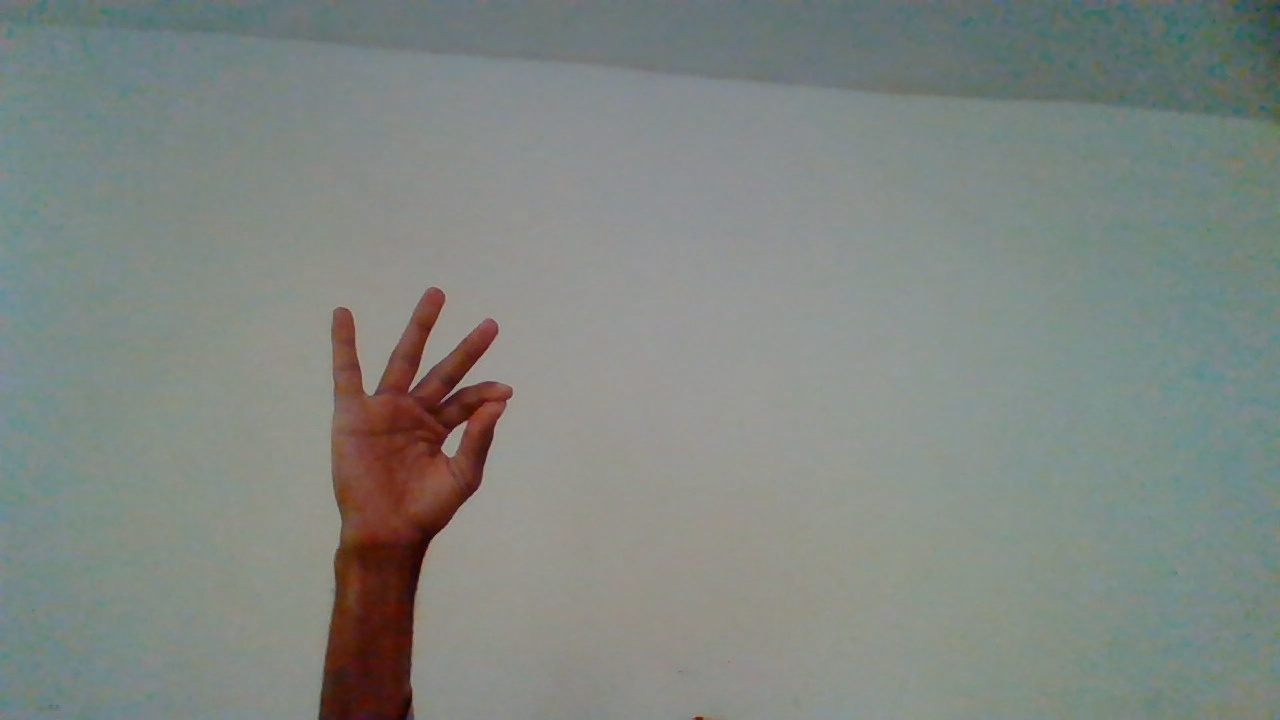le: (317, 272, 510, 666)
